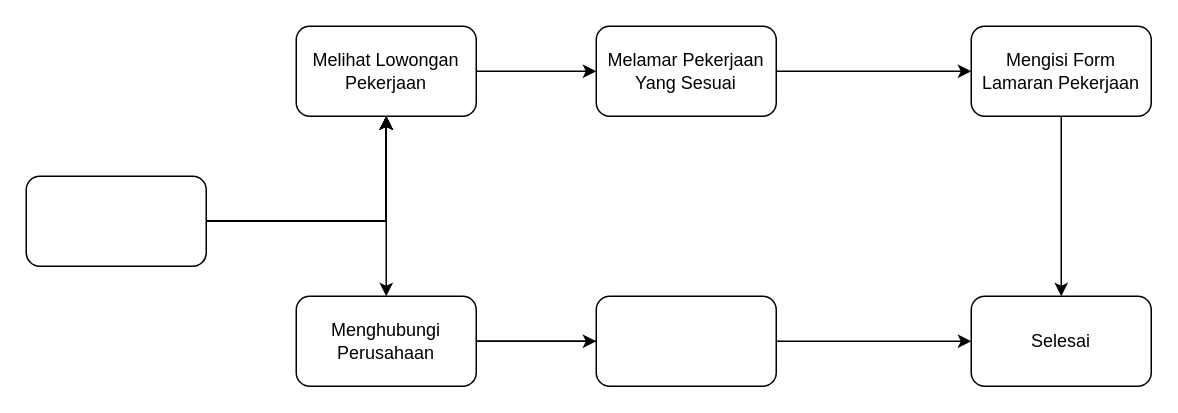
This 1178x413 diagram has some shape labels left out. The centre of each missing label's shape, as x and y in pixels:
"Menghubungi lewat email / tlp" goes at pixel 685 340.
"Pelamar" goes at pixel 115 220.
